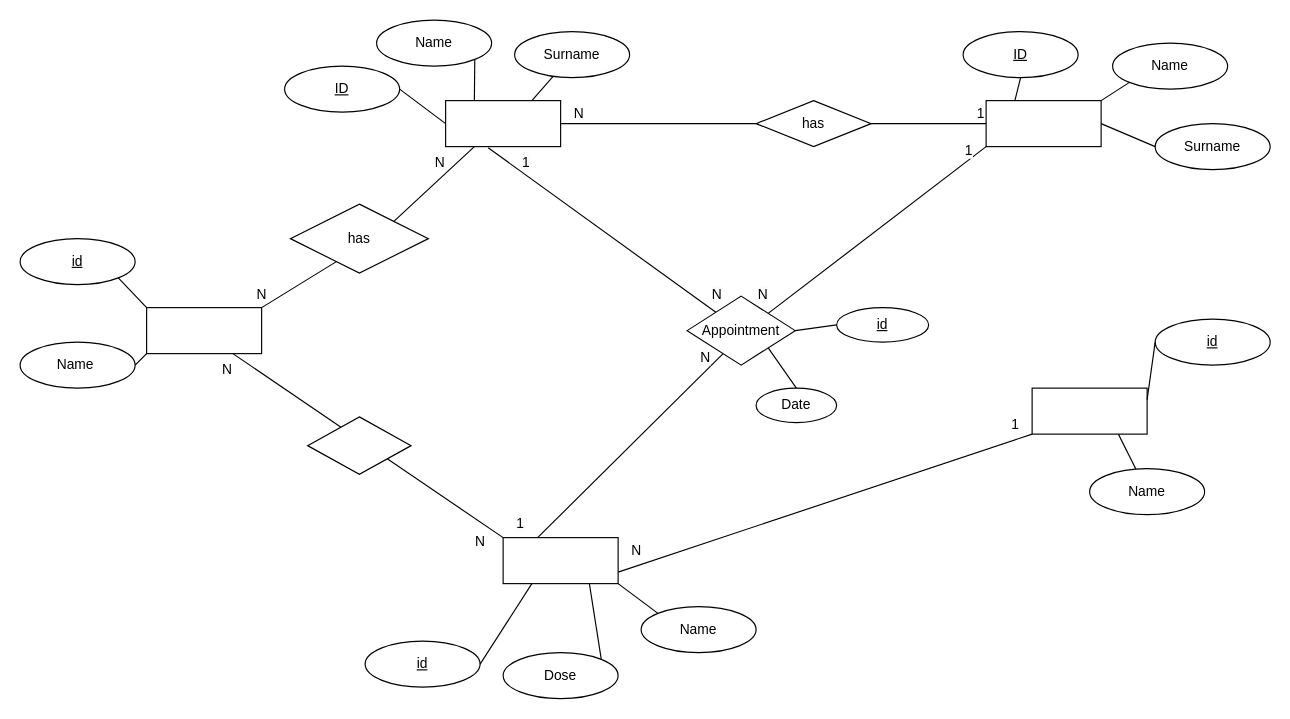
The diagram is 1290 pixels wide and 719 high, and some of its shapes have lost their labels. Here are the shapes that lost their labels. From the top down, the centre of each, then its label:
At [502,123]: "Patient".
At [1043,123]: "Doctor".
At [203,330]: "Condition".
At [1089,410]: "Disease".
At [358,445]: "not compatible".
At [560,560]: "Vaccine".
